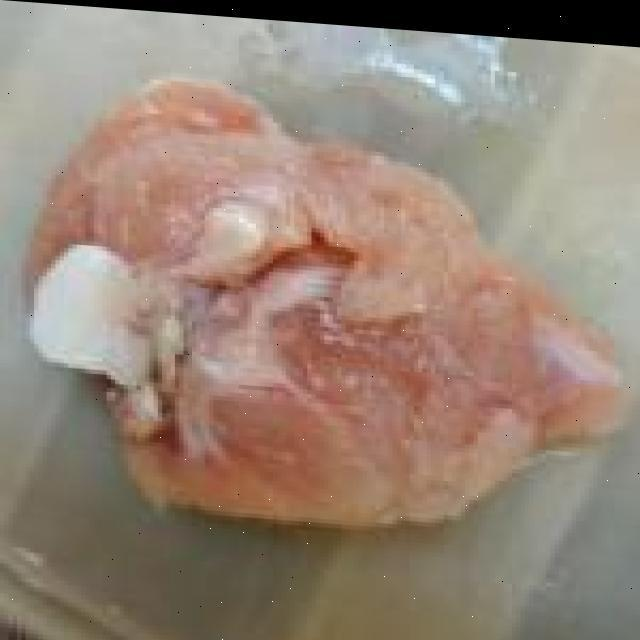breast: (30, 66, 604, 516)
